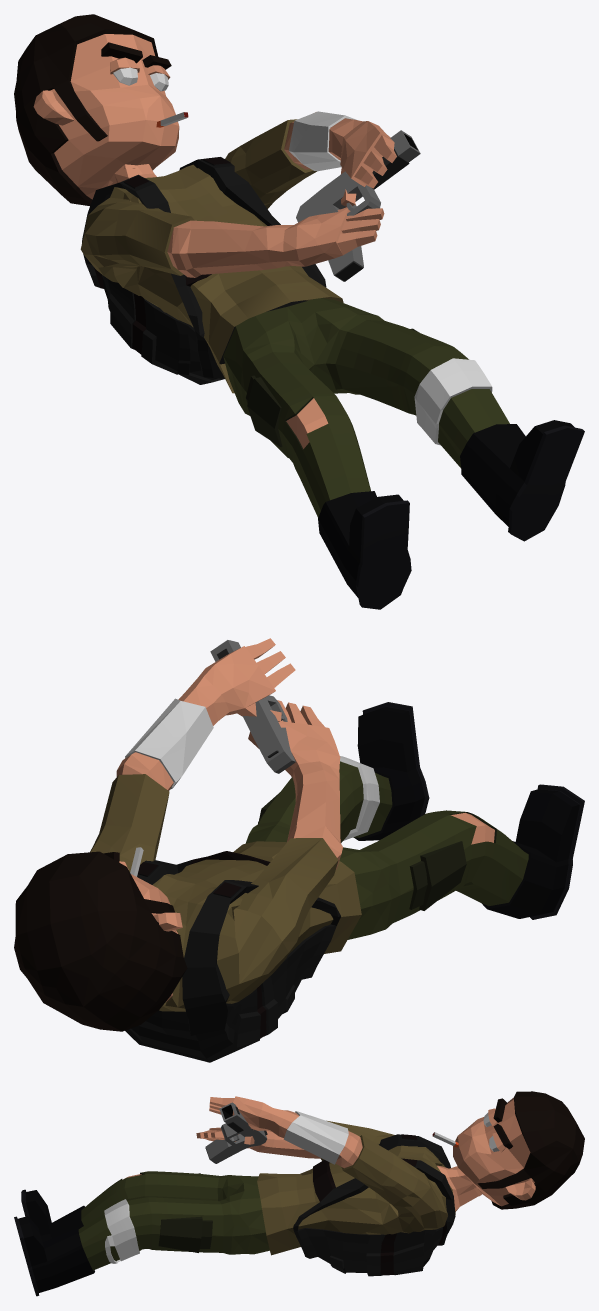
The model's file is frame_0054.obj.
The picture shows the model from 3 angles, top to bottom: view 1: azimuth 30°, elevation 25°; view 2: azimuth 150°, elevation 25°; view 3: azimuth 270°, elevation 25°; orthographic projection. The views are drawn at different scales.
Parts seen in each view (by area): view 1: Body, Gun; view 2: Body, Gun; view 3: Body, Gun.
Boxes of the visible parts, x1,y1,x2,y2 form: Body: (14, 14, 584, 609); Gun: (296, 130, 420, 281); Body: (14, 638, 584, 1062); Gun: (210, 640, 295, 773); Body: (14, 1091, 584, 1296); Gun: (205, 1102, 267, 1163).
Size of the model in its own units: 1.23 by 1.81 by 4.15.
